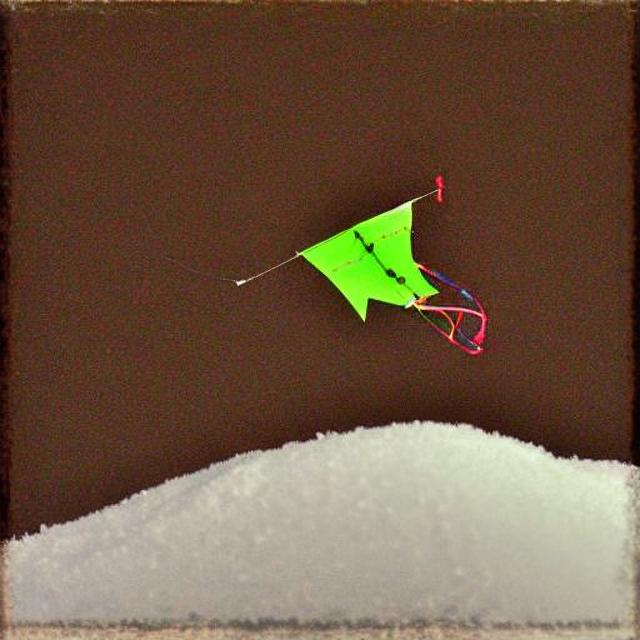floating object: (295, 184, 486, 347)
